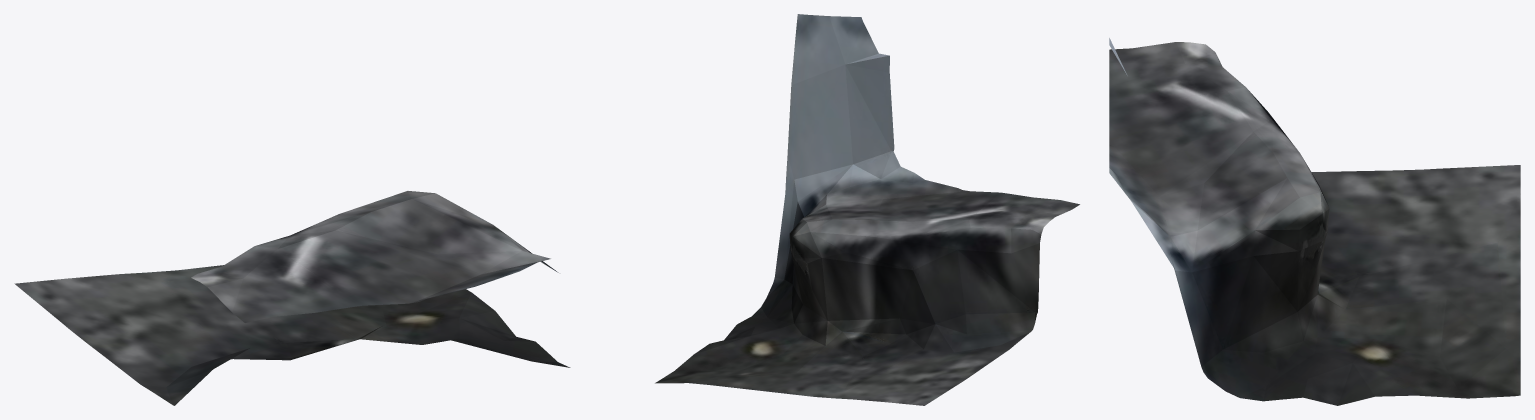
The picture shows the model from 3 angles, left to right: view 1: azimuth 30°, elevation 25°; view 2: azimuth 150°, elevation 25°; view 3: azimuth 270°, elevation 25°; orthographic projection. The views are drawn at different scales.
Size of the model in its own units: 0.8374 by 0.8067 by 0.8373.
Materials: 4 (4 with a texture image).
